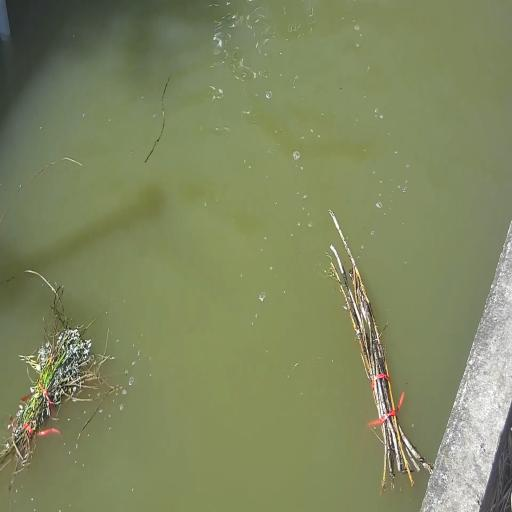twig: (328, 207, 432, 493), (0, 268, 133, 481)
